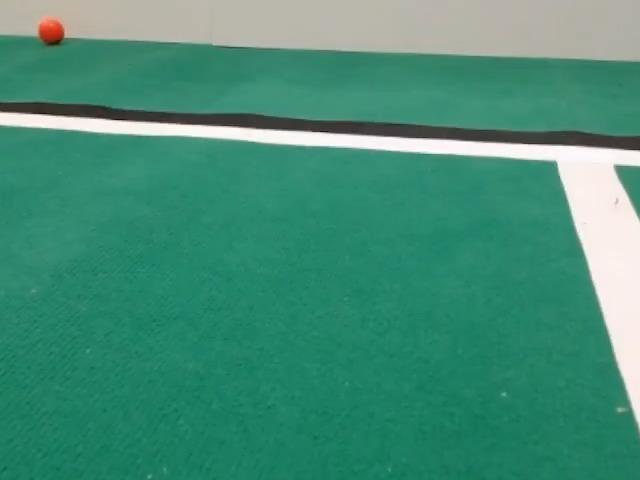Ball: (37, 16, 64, 44)
